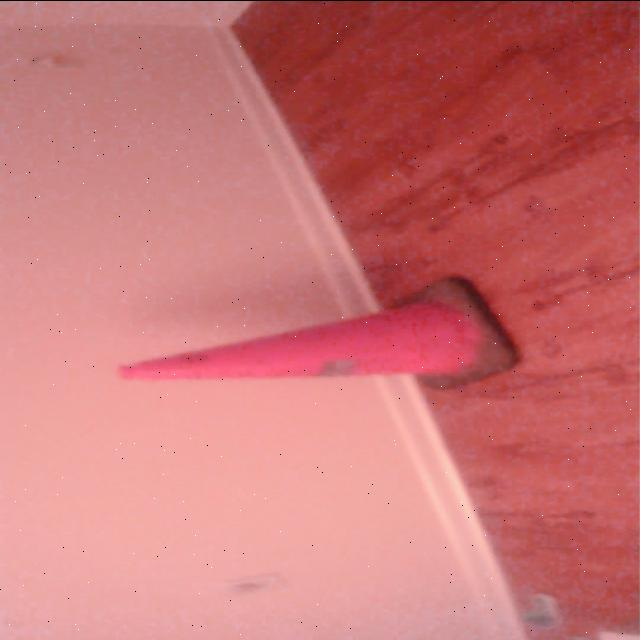traffic cone: (112, 274, 525, 394)
